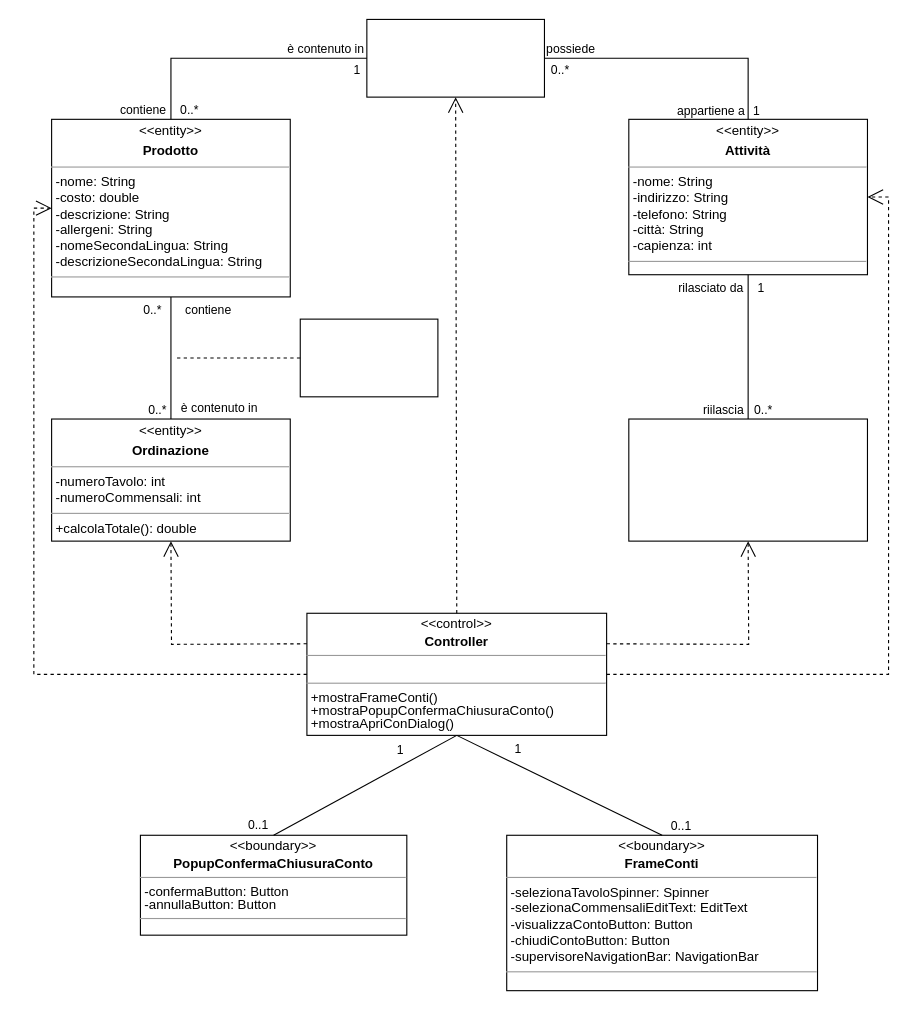
This 924x1010 diagram has some shape labels left out. The shapes that lost their labels are listed below. From the top down, each one's centre as x and y in pixels, then its label:
At pixel 455 57: "<<entity>> SezioneMenù -nome: String".
At pixel 368 357: "<<entity>> SingoloOrdine -quantitàProdotto: int".
At pixel 747 479: "<<entity>> Conto -data: Date -importo: double".
